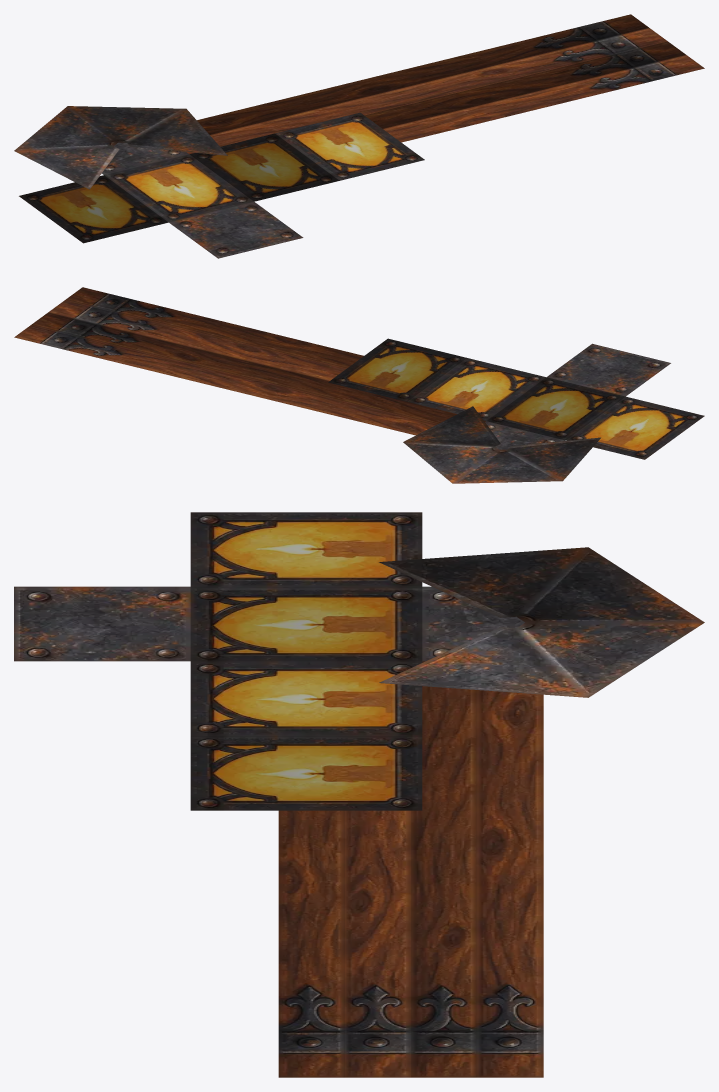
File: lantern_post_fold.glb
The picture shows the model from 3 angles, top to bottom: view 1: azimuth 30°, elevation 25°; view 2: azimuth 150°, elevation 25°; view 3: azimuth 270°, elevation 25°; orthographic projection. The views are drawn at different scales.
Parts seen in each view (by area): view 1: GEO-lantern_post; view 2: GEO-lantern_post; view 3: GEO-lantern_post.
Boxes of the visible parts, x1,y1,x2,y2 form: GEO-lantern_post: (14, 14, 704, 258); GEO-lantern_post: (14, 287, 704, 483); GEO-lantern_post: (14, 512, 704, 1077).
Size of the model in its own units: 2.42 by 0.006 by 1.25.
1 material, 1 textured.
